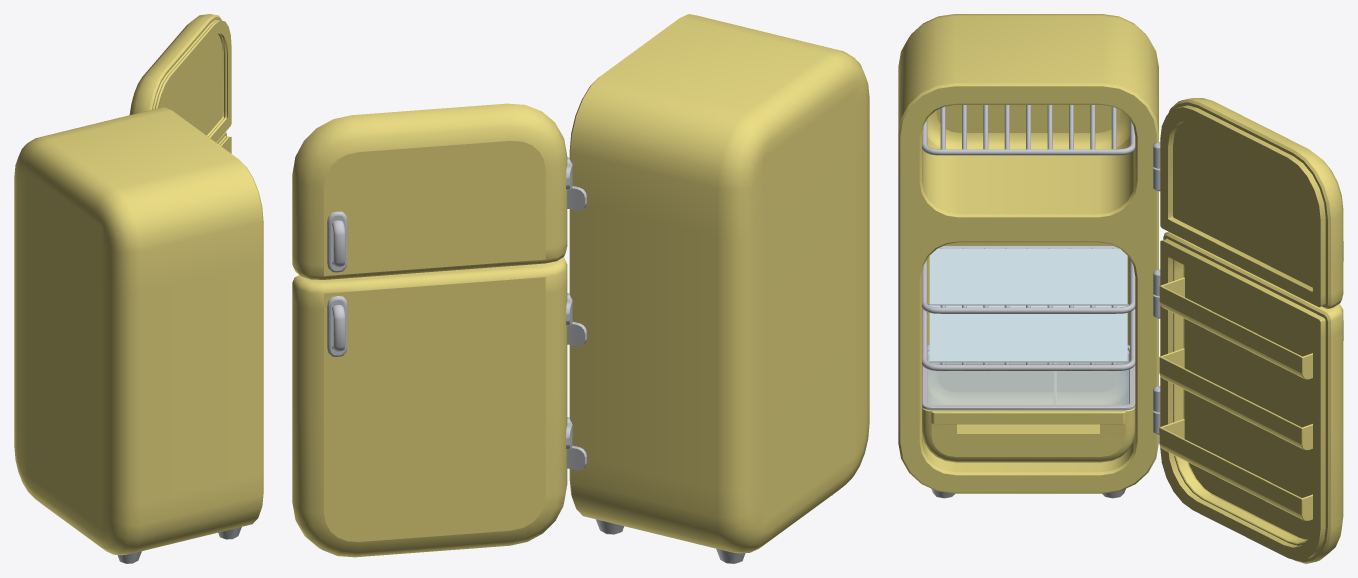
Rendered from Refrigopen.glb.
3 renders of one model, left to right at view 1: azimuth 30°, elevation 25°; view 2: azimuth 150°, elevation 25°; view 3: azimuth 270°, elevation 25°, orthographic. The views are drawn at different scales.
Parts seen in each view (by area): view 1: Fridge, Door_upper; view 2: Fridge, Door_lower, Door_upper; view 3: Fridge, Door_lower, Door_upper, Fridge_box.
Boxes of the visible parts, left/top/right/bottom form: Fridge: left=14, top=107, right=263, bottom=563; Door_upper: left=129, top=14, right=231, bottom=142; Fridge: left=567, top=14, right=869, bottom=563; Door_lower: left=292, top=257, right=572, bottom=557; Door_upper: left=292, top=103, right=572, bottom=279; Fridge: left=898, top=14, right=1160, bottom=498; Door_lower: left=1153, top=231, right=1343, bottom=563; Door_upper: left=1153, top=98, right=1343, bottom=308; Fridge_box: left=922, top=351, right=1135, bottom=462.
Bounding box in the file's own units: 1.54 × 1.84 × 1.77.
4 materials, 3 textured.
